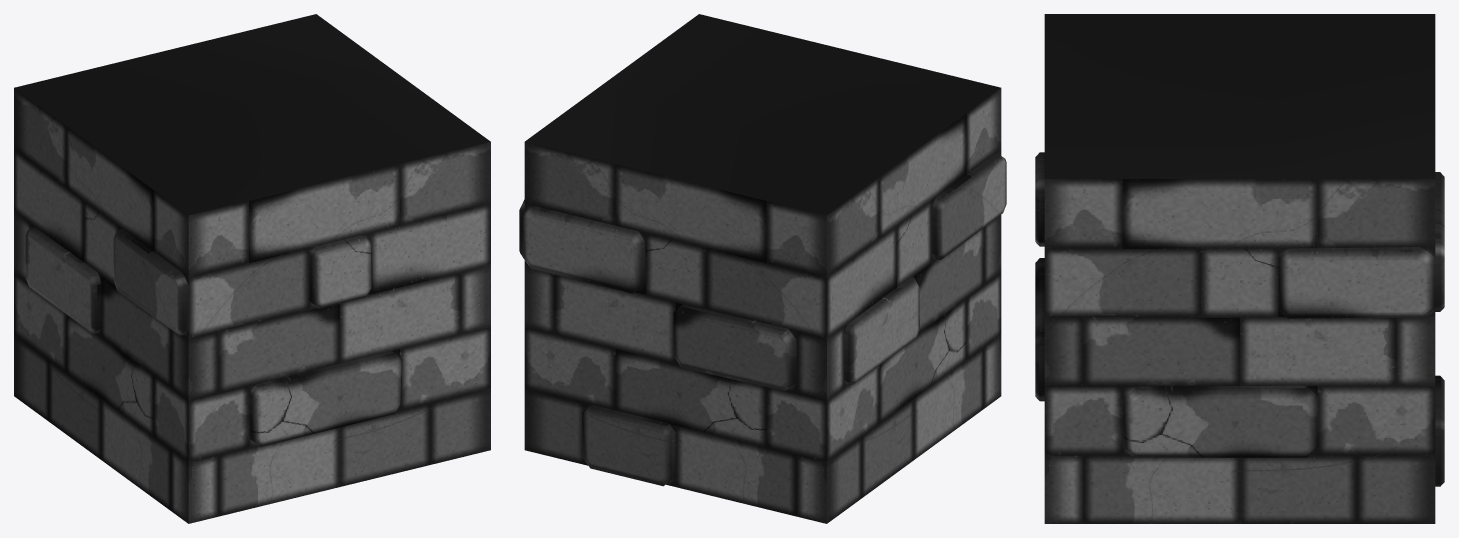
The model's file is wall1.fbx.
3 views of the same model, side by side, from view 1: azimuth 30°, elevation 25°; view 2: azimuth 150°, elevation 25°; view 3: azimuth 270°, elevation 25° (orthographic). The views are drawn at different scales.
Visible parts, largest first — view 1: Cube; view 2: Cube; view 3: Cube.
Part boxes in pixels (<box>): Cube: <box>14,14,490,523</box>; Cube: <box>519,14,1006,523</box>; Cube: <box>1035,14,1444,523</box>.
Bounding box in the file's own units: 210 × 195 × 210.
